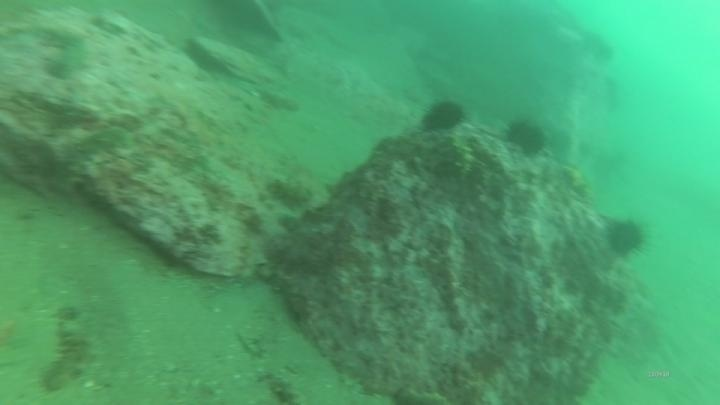echinus: (603, 215, 649, 260), (503, 116, 549, 159), (419, 97, 468, 134)
holothurian: (38, 304, 94, 395), (444, 127, 480, 185)
